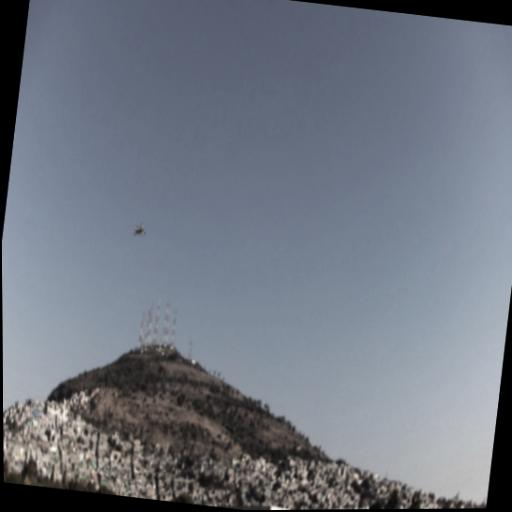drones: (131, 221, 148, 242)
